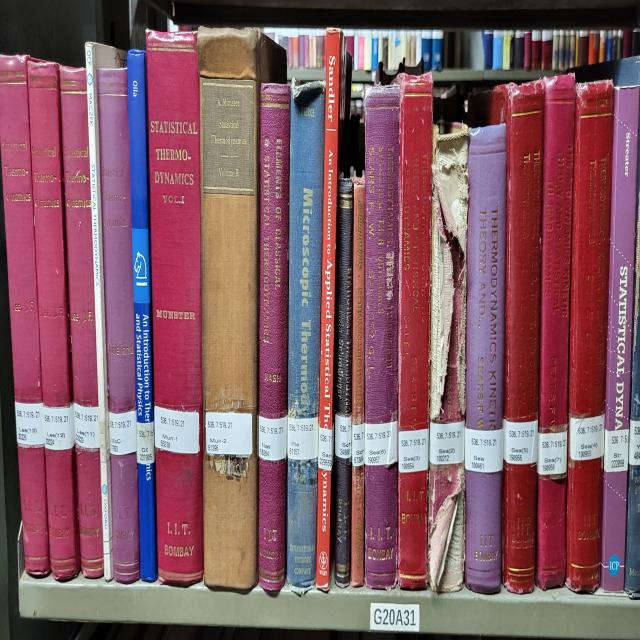Book: (198, 27, 286, 590), (469, 81, 544, 593), (146, 32, 204, 584), (28, 60, 80, 579), (0, 54, 50, 574), (566, 81, 614, 593), (60, 65, 104, 576), (98, 68, 140, 582), (535, 76, 575, 590), (286, 81, 325, 593), (465, 124, 506, 593), (601, 87, 639, 590), (428, 127, 469, 593), (364, 84, 400, 587), (398, 73, 432, 587), (128, 49, 158, 582), (259, 84, 290, 593), (316, 30, 341, 590), (334, 176, 354, 587), (351, 176, 365, 587)
Label: (154, 406, 199, 455), (205, 411, 252, 457), (465, 427, 504, 473), (570, 414, 605, 460), (504, 419, 538, 465), (429, 422, 465, 465), (42, 403, 75, 449), (364, 422, 398, 465), (399, 427, 429, 473), (538, 430, 568, 476), (15, 400, 44, 446), (288, 417, 319, 460), (259, 417, 288, 460), (109, 409, 136, 455), (74, 403, 100, 449), (136, 422, 155, 465), (335, 414, 352, 460), (318, 427, 334, 471), (352, 425, 365, 465), (301, 438, 302, 441)
